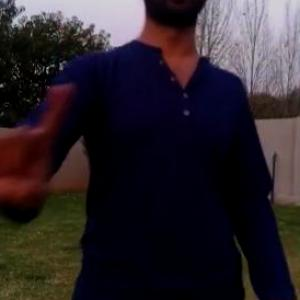takeoff-hand: (0, 81, 94, 231)
